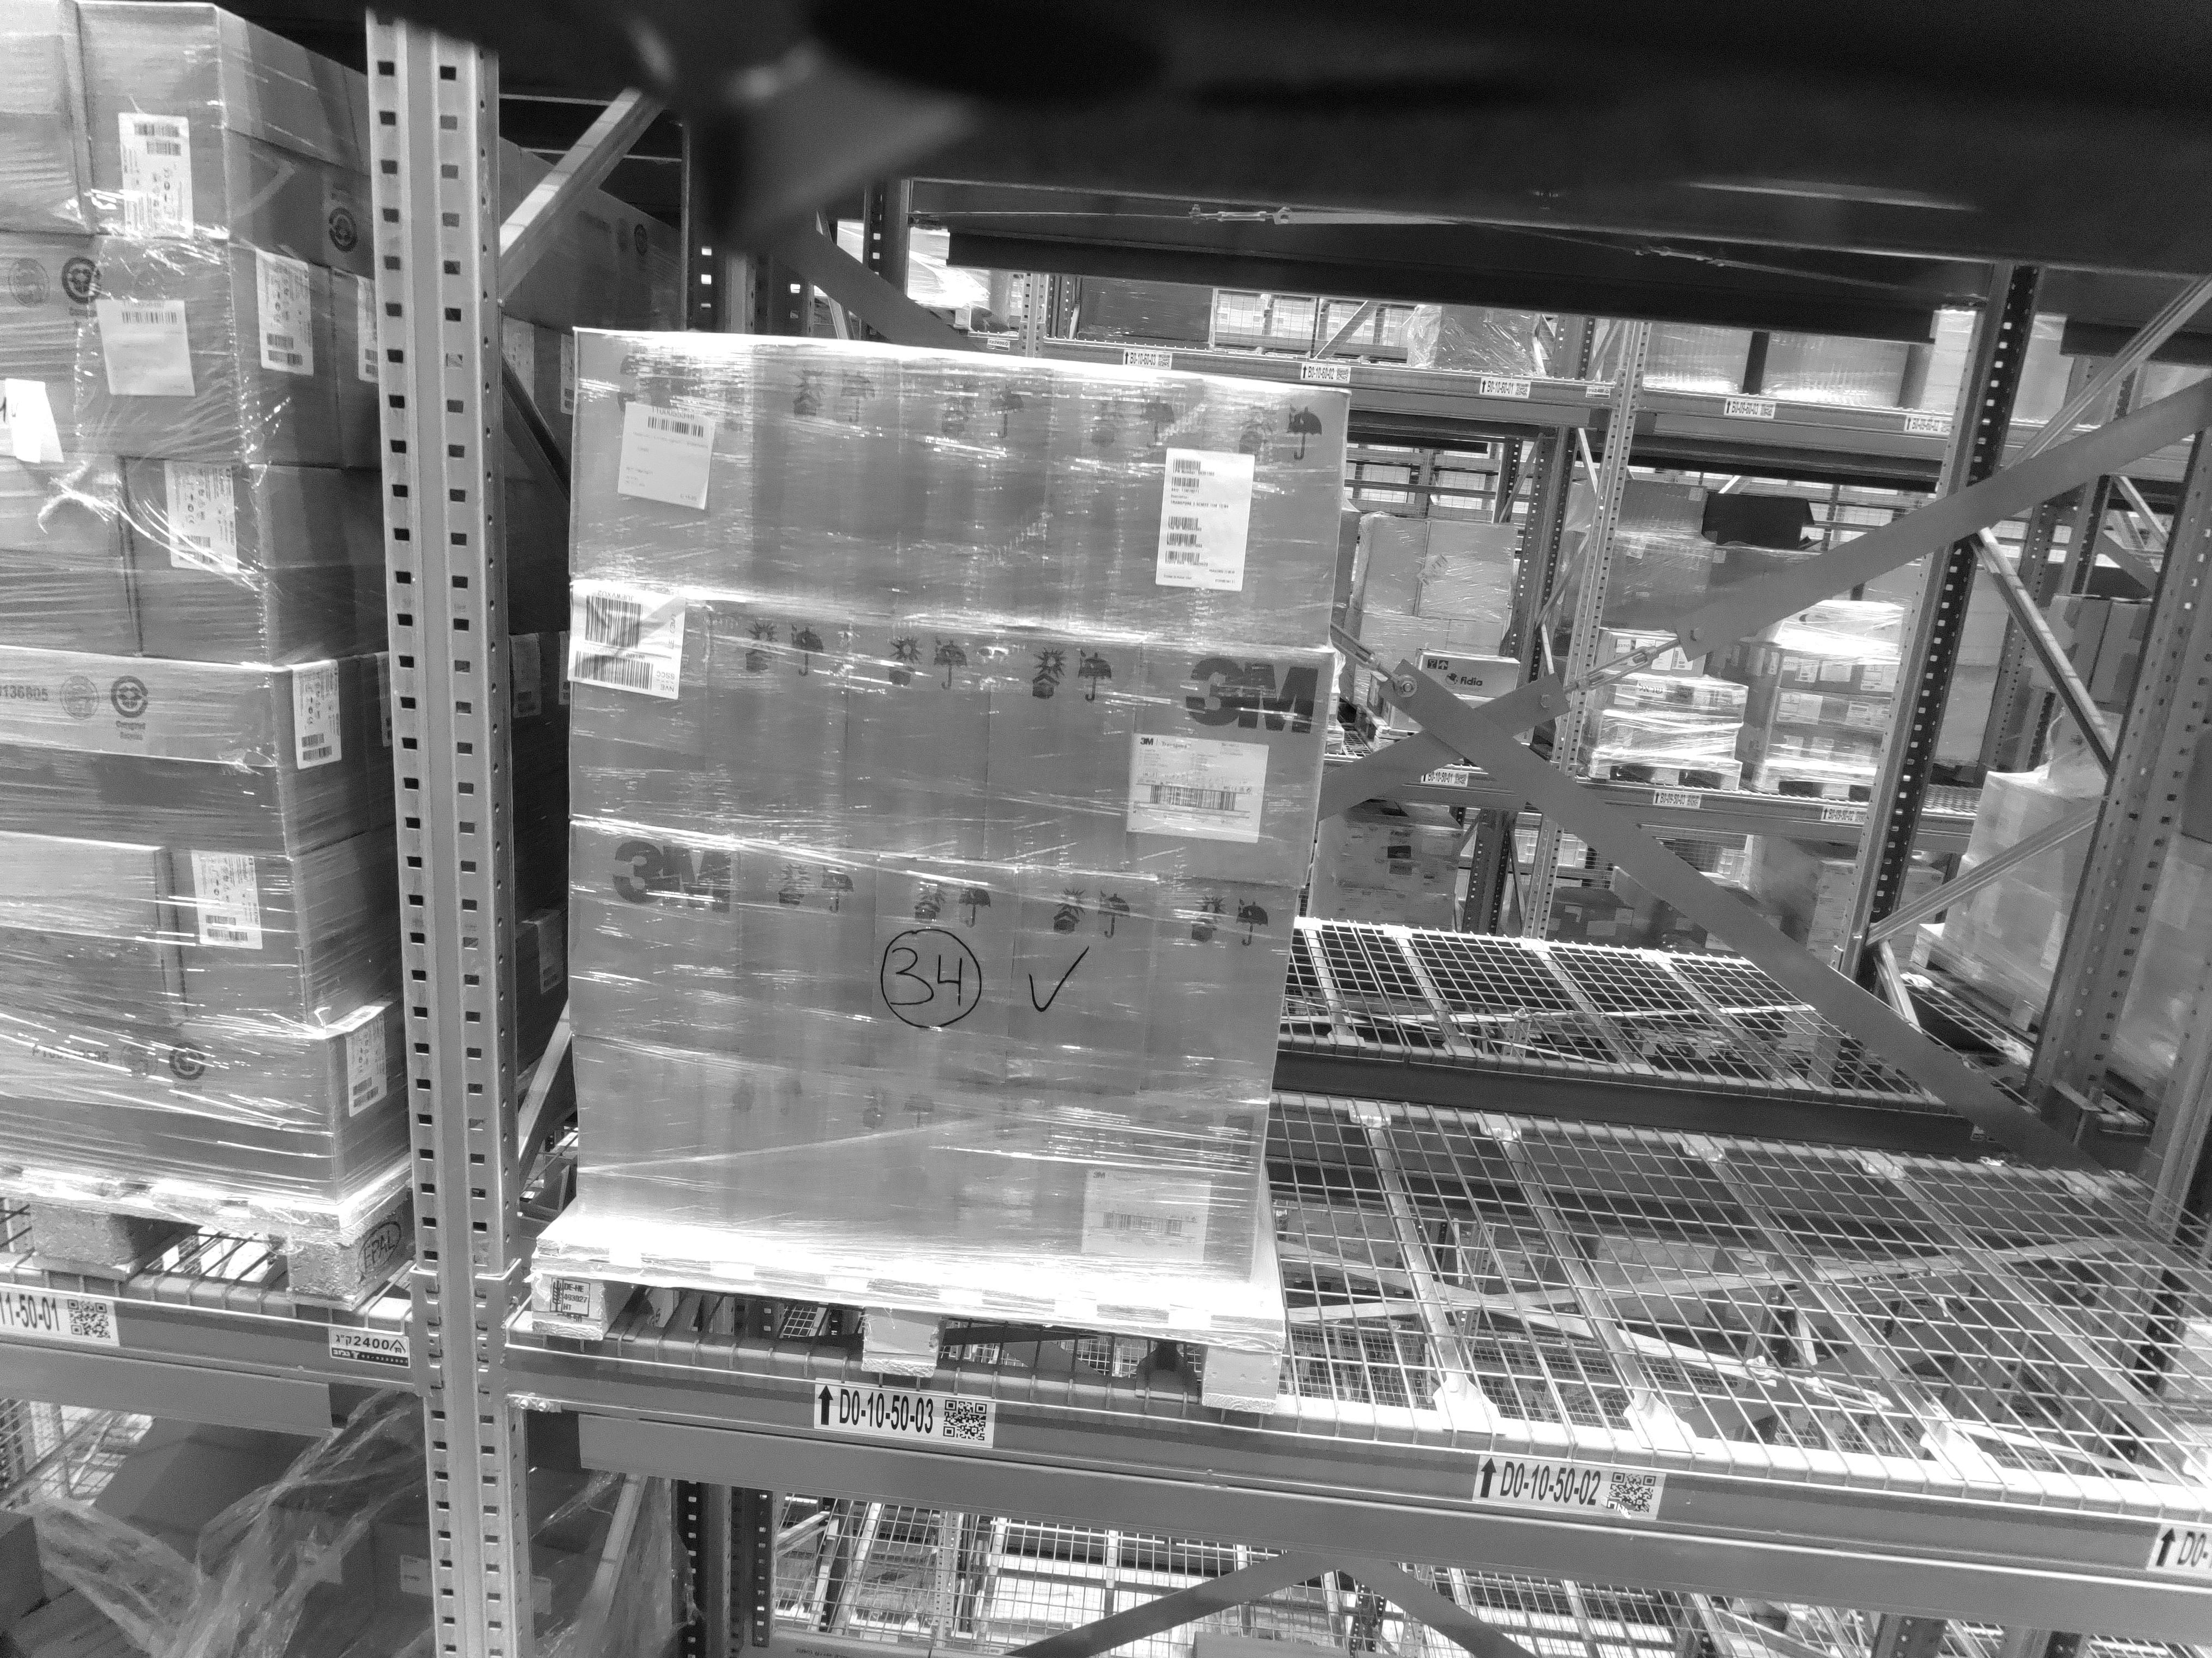empty-shelf: (1423, 348, 1778, 1404), (1914, 343, 2193, 1399)
